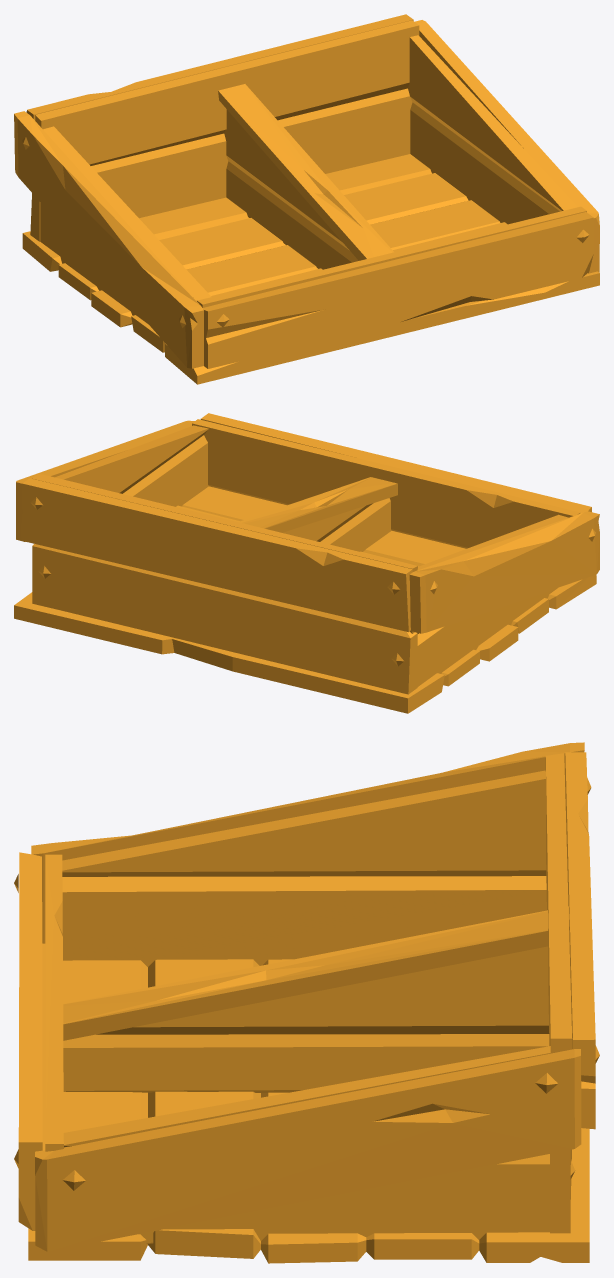
Rendered from SM_Crate_Table_Slanted_Fantasy.fbx.
3 views of the same model, one above another, from view 1: azimuth 30°, elevation 25°; view 2: azimuth 150°, elevation 25°; view 3: azimuth 270°, elevation 25° (orthographic). The views are drawn at different scales.
Parts seen in each view (by area): view 1: crate-table-slanted-fantasy; view 2: crate-table-slanted-fantasy; view 3: crate-table-slanted-fantasy.
Part boxes in pixels (x1,y1,x2,y2): crate-table-slanted-fantasy: (14, 14, 599, 384); crate-table-slanted-fantasy: (14, 413, 599, 713); crate-table-slanted-fantasy: (14, 742, 599, 1263).
Bounding box in the file's own units: 1.07 × 0.3475 × 0.8418.
